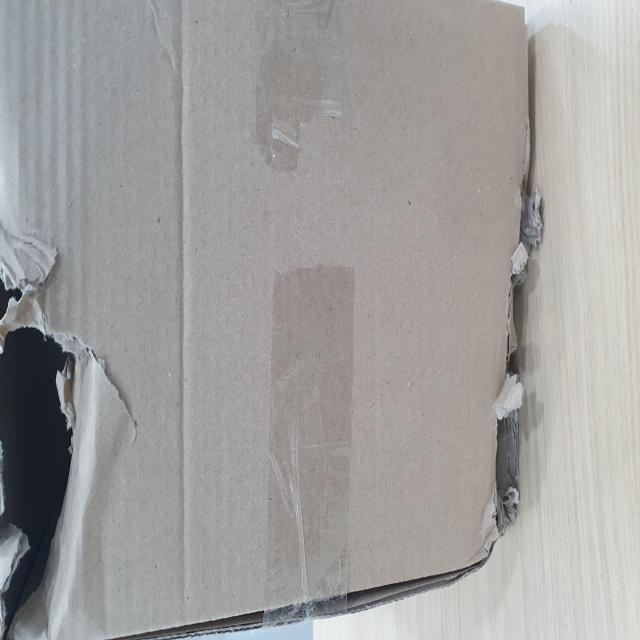damaged: (0, 2, 223, 242)
